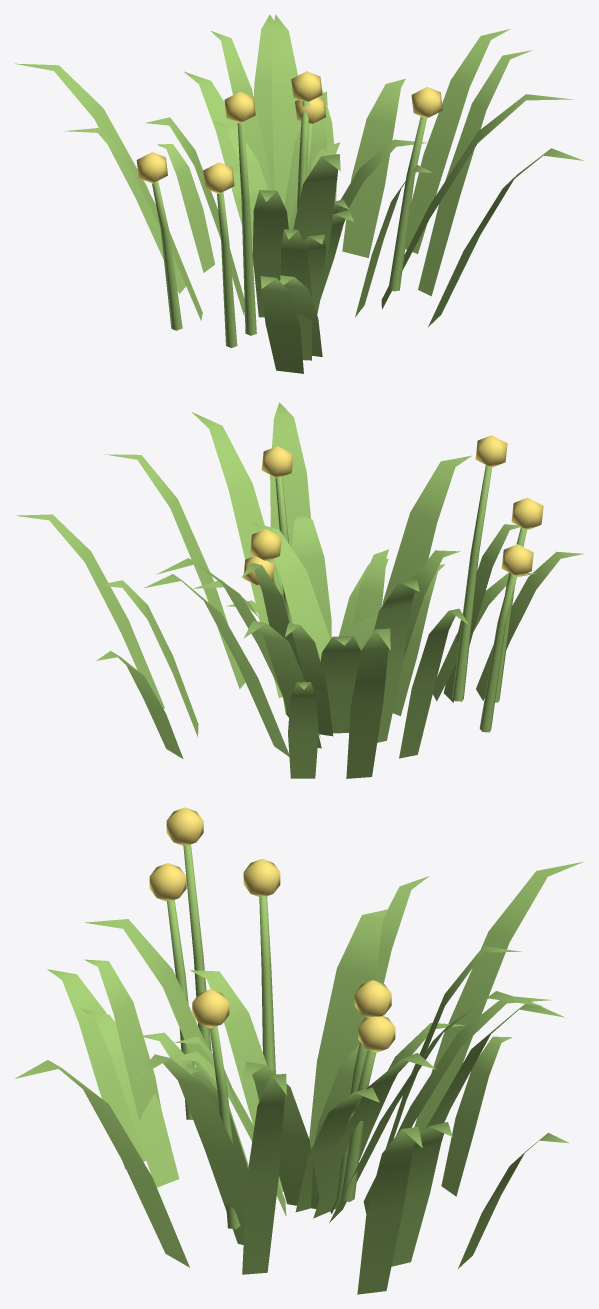
File: moss_tuft.glb
3 renders of one model, top to bottom at view 1: azimuth 30°, elevation 25°; view 2: azimuth 150°, elevation 25°; view 3: azimuth 270°, elevation 25°, orthographic. The views are drawn at different scales.
Visible parts, largest first — view 1: SM_Forest_MossTuft; view 2: SM_Forest_MossTuft; view 3: SM_Forest_MossTuft.
Boxes of the visible parts, bbox=[...] form: SM_Forest_MossTuft: bbox=[15, 14, 583, 373]; SM_Forest_MossTuft: bbox=[16, 402, 584, 778]; SM_Forest_MossTuft: bbox=[15, 807, 583, 1294].
Size of the model in its own units: 0.4678 by 0.2753 by 0.4212.
